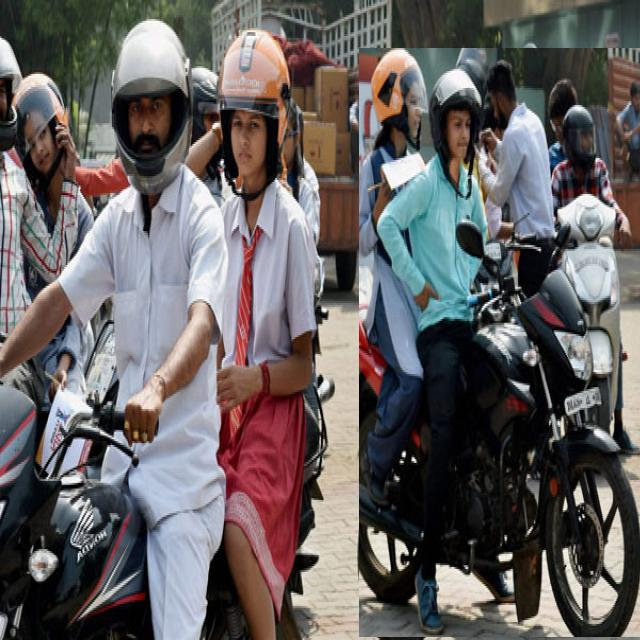motorcycle: (359, 49, 640, 637), (371, 107, 448, 432)
